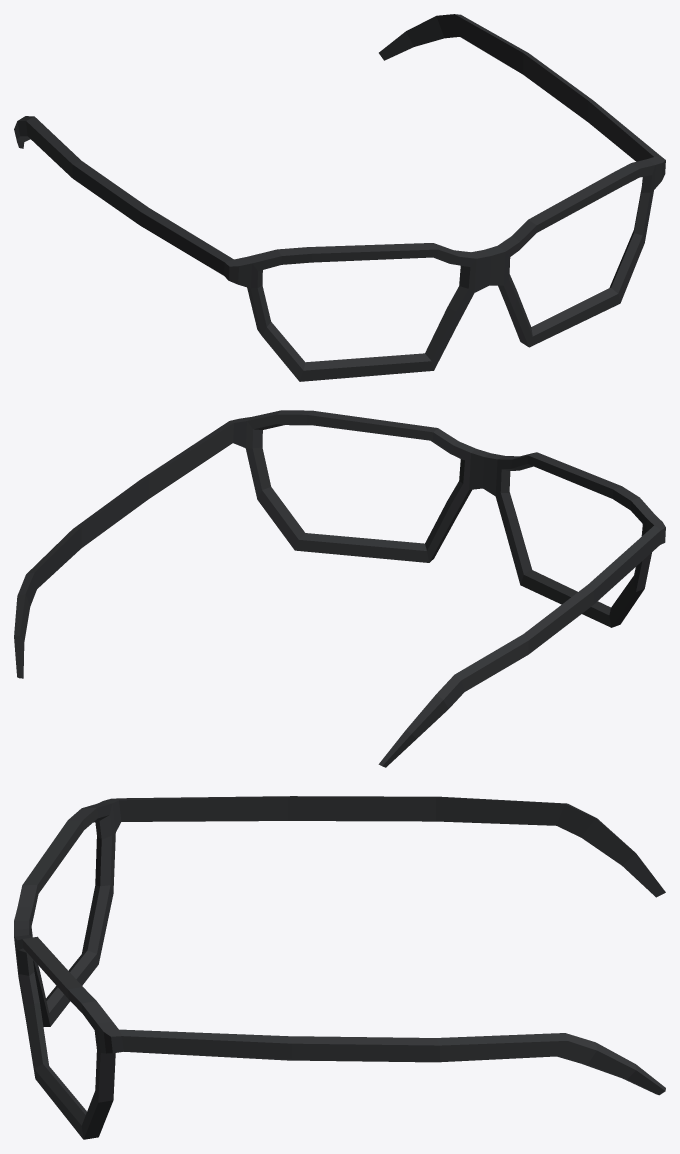
The model's file is GlassesV1.glb.
The picture shows the model from 3 angles, top to bottom: view 1: azimuth 30°, elevation 25°; view 2: azimuth 150°, elevation 25°; view 3: azimuth 270°, elevation 25°; orthographic projection. The views are drawn at different scales.
Visible parts, largest first — view 1: GlassesV1; view 2: GlassesV1; view 3: GlassesV1.
Boxes of the visible parts, <box> form: GlassesV1: <box>14,14,665,381</box>; GlassesV1: <box>14,410,665,767</box>; GlassesV1: <box>14,796,665,1139</box>.
Size of the model in its own units: 0.1441 by 0.0404 by 0.1596.
Materials: 1 (1 with a texture image).
